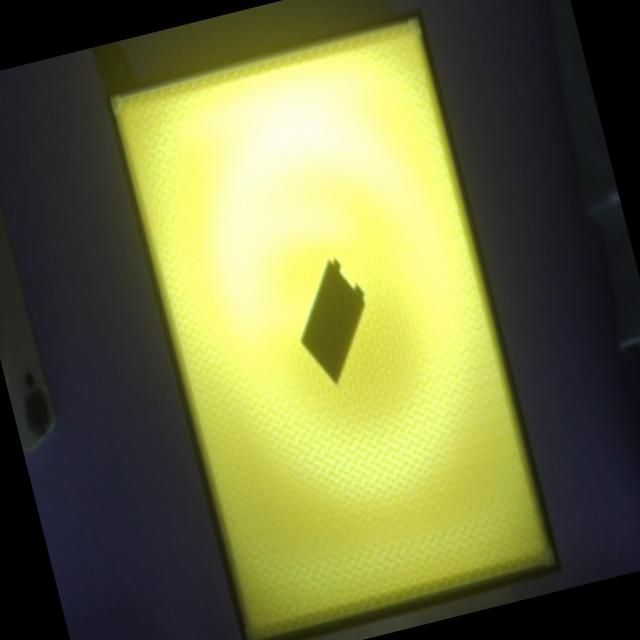bateria: (299, 259, 365, 381)
mesa: (101, 9, 563, 640)
